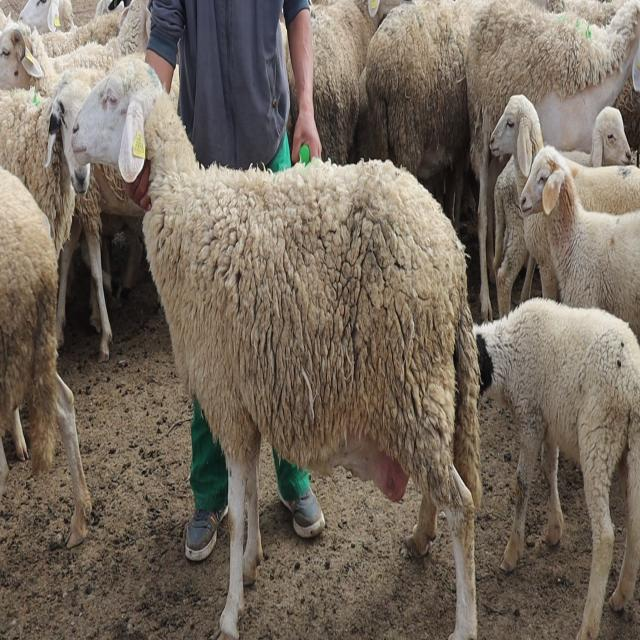Score_2: (71, 56, 482, 639)
